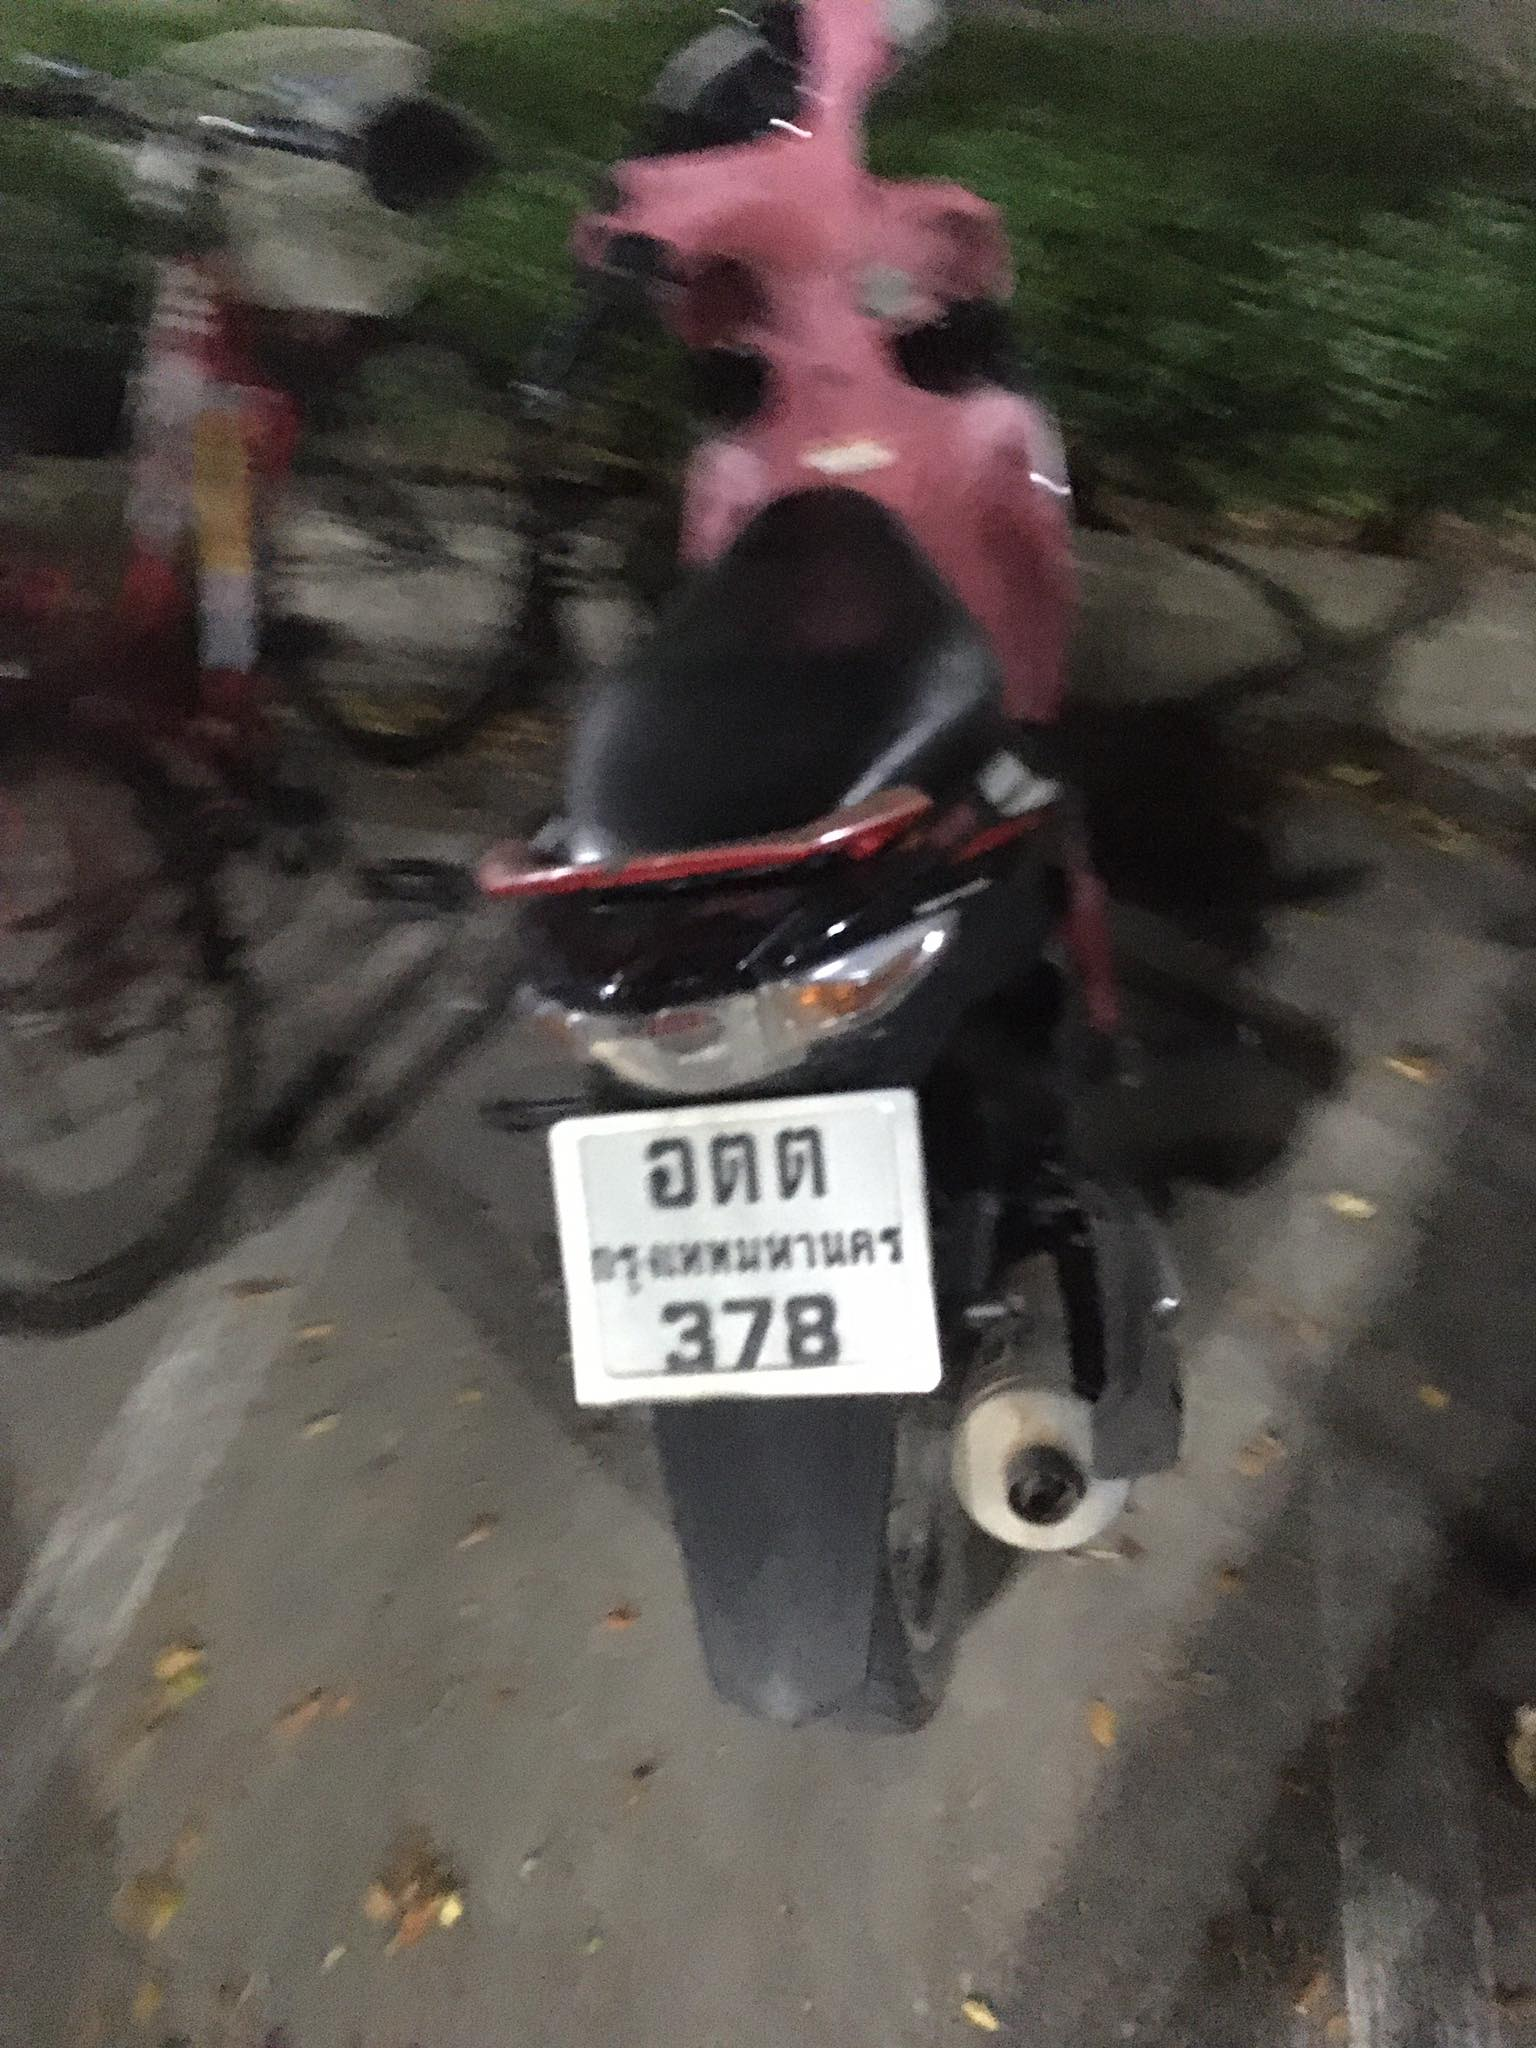line1: (616, 1121, 847, 1218)
line2: (586, 1218, 916, 1295)
line3: (637, 1292, 857, 1377)
